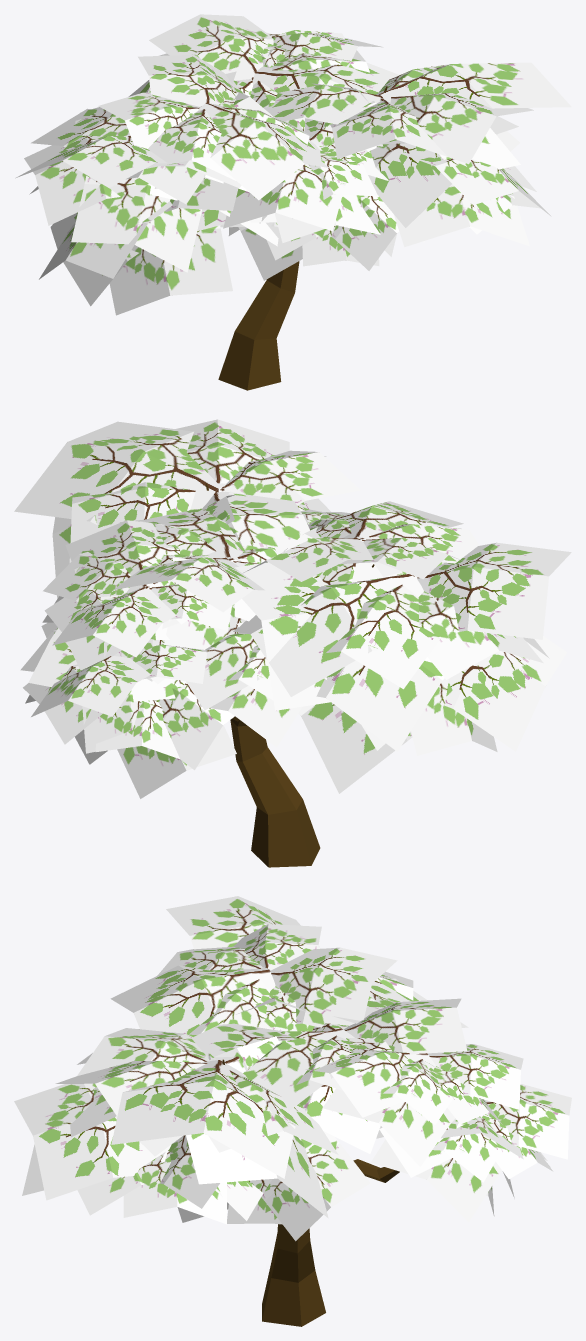
File: Tree_Green_03.fbx
3 views of the same model, one above another, from view 1: azimuth 30°, elevation 25°; view 2: azimuth 150°, elevation 25°; view 3: azimuth 270°, elevation 25° (orthographic). The views are drawn at different scales.
Visible parts, largest first — view 1: Tree_Green_03; view 2: Tree_Green_03; view 3: Tree_Green_03.
Part boxes in pixels (left/top/right/bottom): Tree_Green_03: left=15, top=14, right=571, bottom=390; Tree_Green_03: left=14, top=419, right=571, bottom=867; Tree_Green_03: left=14, top=896, right=571, bottom=1326.
Bounding box in the file's own units: 1919 × 1148 × 1789.
